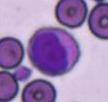M: (27, 26, 80, 76)
